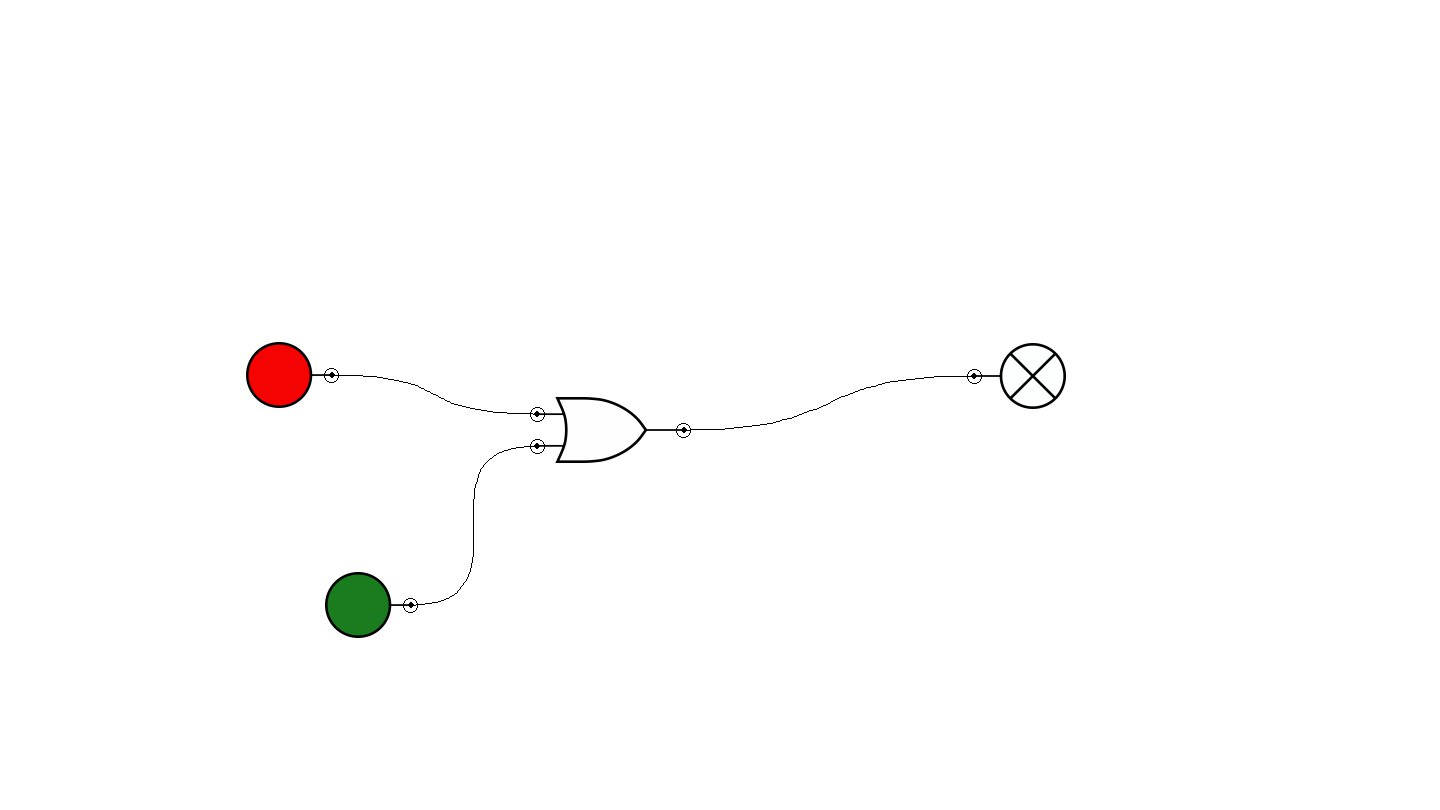bulb: (967, 343, 1066, 409)
or: (530, 397, 691, 463)
switch_False: (246, 342, 339, 408)
switch_True: (325, 572, 418, 638)
